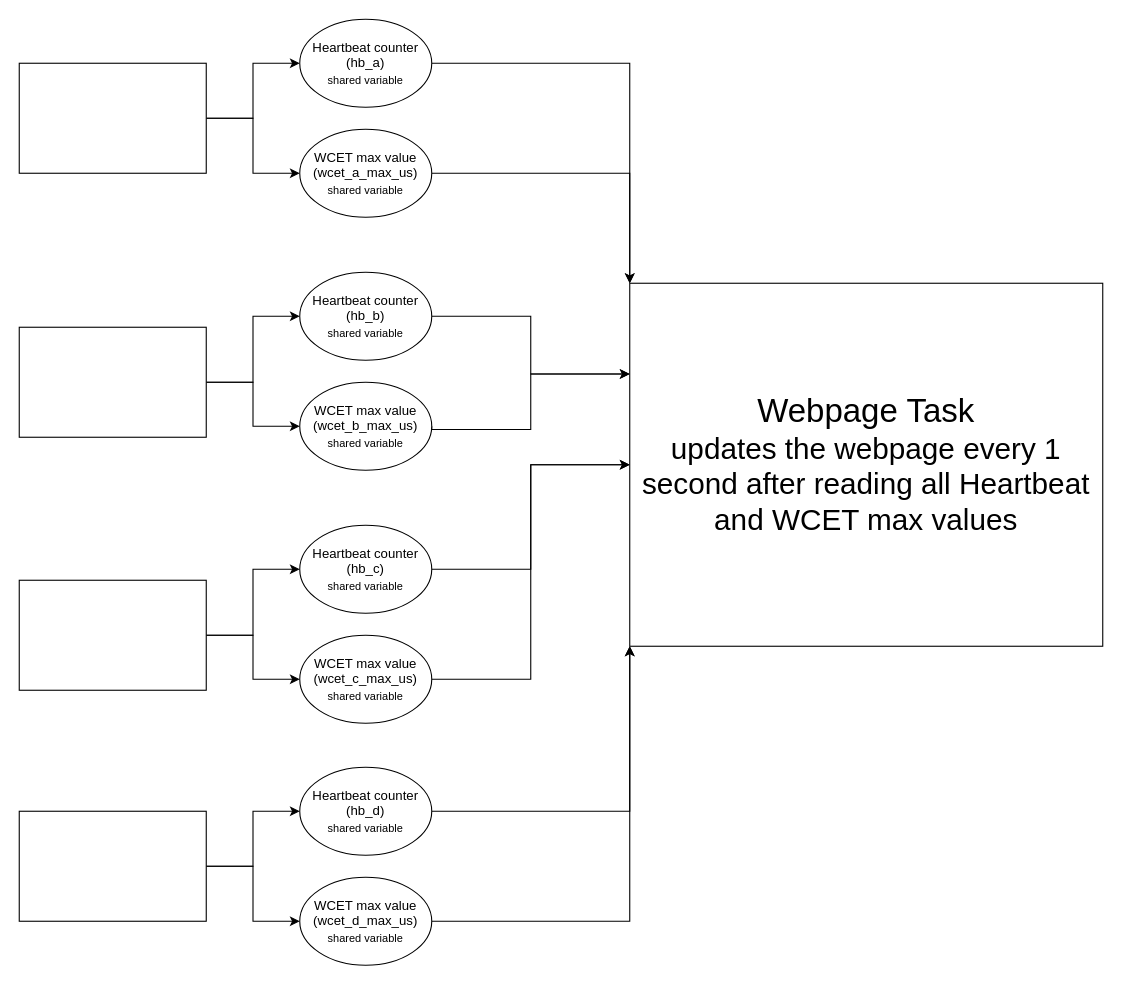
Image size: 1122x985. Some labels were removed from this diagram. Here are the shapes that lost their labels. From the top down, the centre of each, then its label:
At point (112, 117): "Task A: Attitude sensor read Period: 10 ms Priority: 15".
At point (112, 381): "Task B: Inner-loop control update Period: 20 ms Priority: 10".
At point (112, 634): "Task C: Telemetry packet assembly Period: 50 ms Priority: 5".
At point (112, 865): "Task D: Housekeeping / logging Period: 100 ms Priority: 2".
